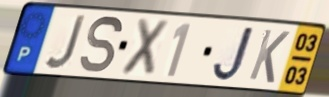1: (165, 22, 194, 79)
J: (210, 24, 257, 83), (43, 13, 89, 72)
K: (246, 27, 292, 86)
S: (78, 14, 125, 76)
X: (117, 16, 173, 80)
